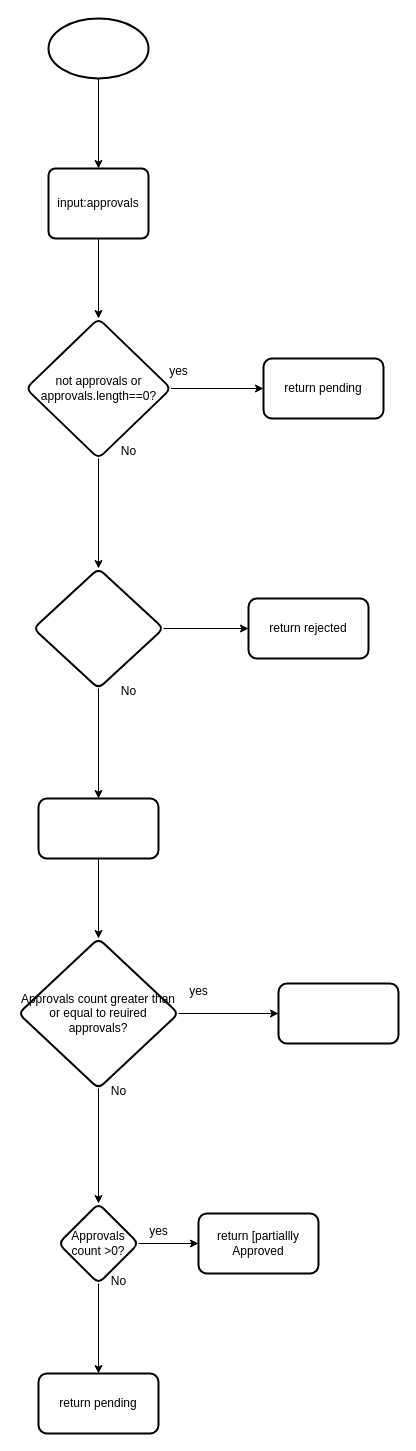
Some shapes in this 416 by 1451 pixel diagram are drawn without their labels. Each missing label, with the box of its shape:
initialize approvals count and required approvals count: (37, 797, 159, 859)
reuturn Approved: (277, 982, 399, 1044)
some approval status equal to rejected?: (32, 567, 164, 689)
start: (47, 17, 149, 79)
